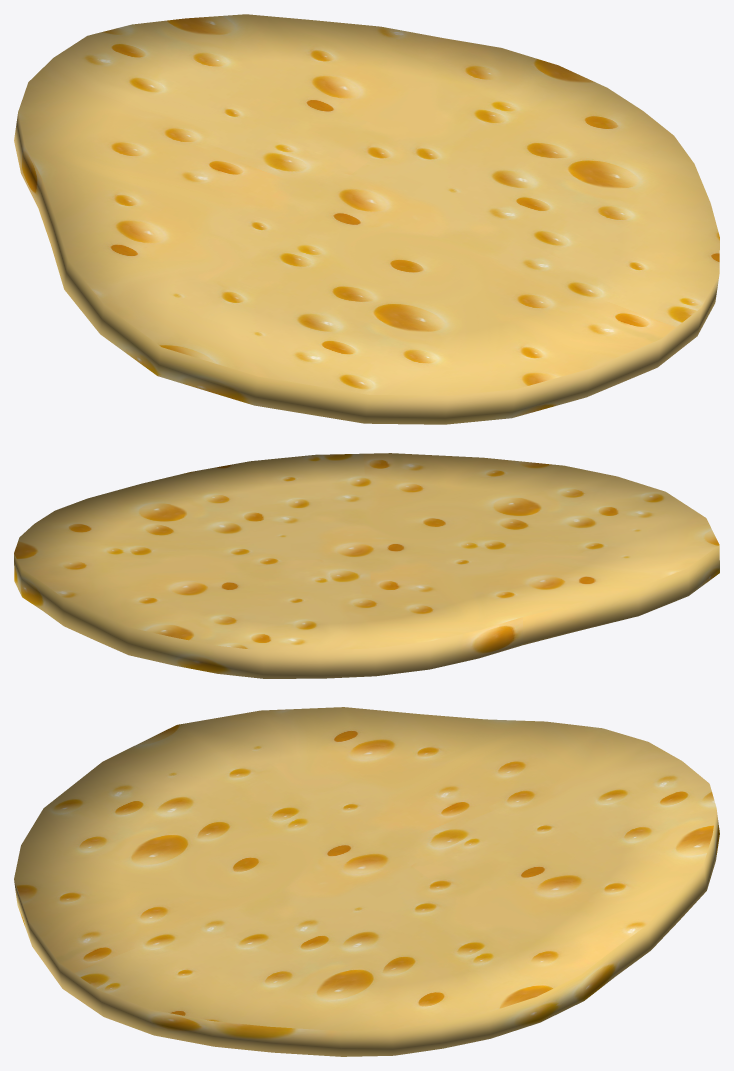
Rendered from Cheese.fbx.
3 views of the same model, one above another, from view 1: azimuth 30°, elevation 25°; view 2: azimuth 150°, elevation 25°; view 3: azimuth 270°, elevation 25° (orthographic). The views are drawn at different scales.
Visible parts, largest first — view 1: Tomatoes.001; view 2: Tomatoes.001; view 3: Tomatoes.001.
Part boxes in pixels (left/top/right/bottom): Tomatoes.001: left=14, top=14, right=719, bottom=424; Tomatoes.001: left=14, top=453, right=719, bottom=678; Tomatoes.001: left=14, top=707, right=719, bottom=1056.
Bounding box in the file's own units: 8.12 × 1.49 × 8.51.
